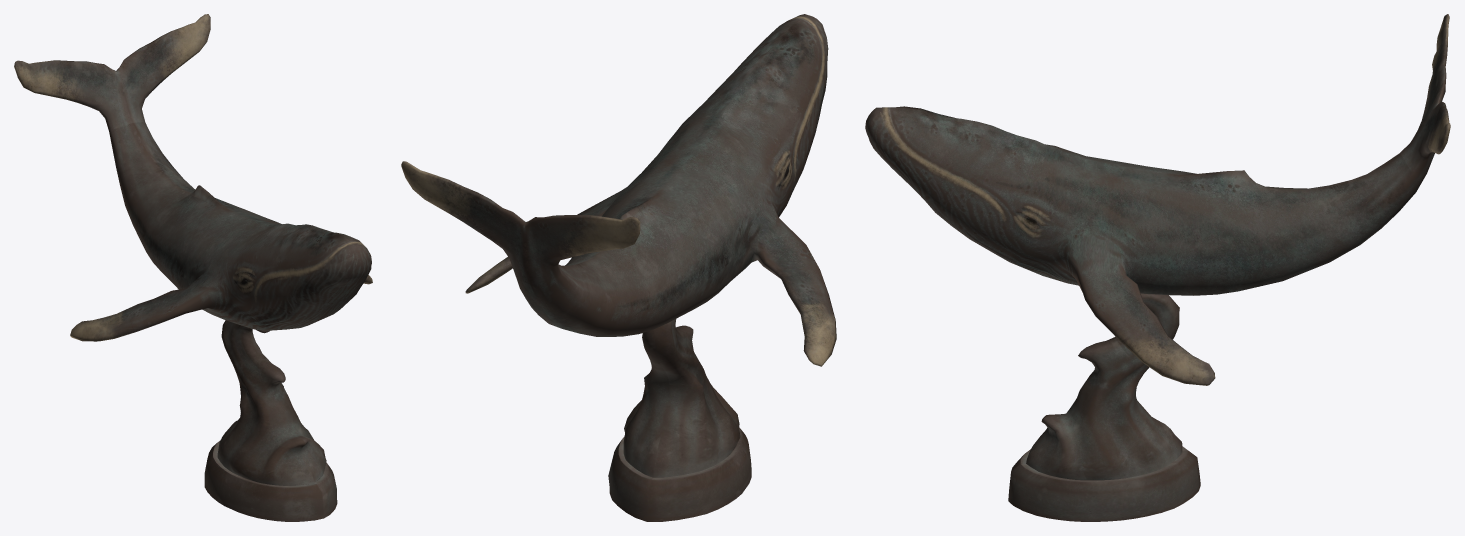
The model's file is bronze_whale_statue.glb.
3 renders of one model, left to right at view 1: azimuth 30°, elevation 25°; view 2: azimuth 150°, elevation 25°; view 3: azimuth 270°, elevation 25°, orthographic. The views are drawn at different scales.
Parts seen in each view (by area): view 1: bronze_whale_statue; view 2: bronze_whale_statue; view 3: bronze_whale_statue.
Boxes of the visible parts, bbox=[...] form: bronze_whale_statue: bbox=[14, 14, 372, 521]; bronze_whale_statue: bbox=[401, 14, 836, 521]; bronze_whale_statue: bbox=[865, 14, 1450, 521].
Size of the model in its own units: 0.932 by 1.07 by 1.37.
Materials: 1 (1 with a texture image).
